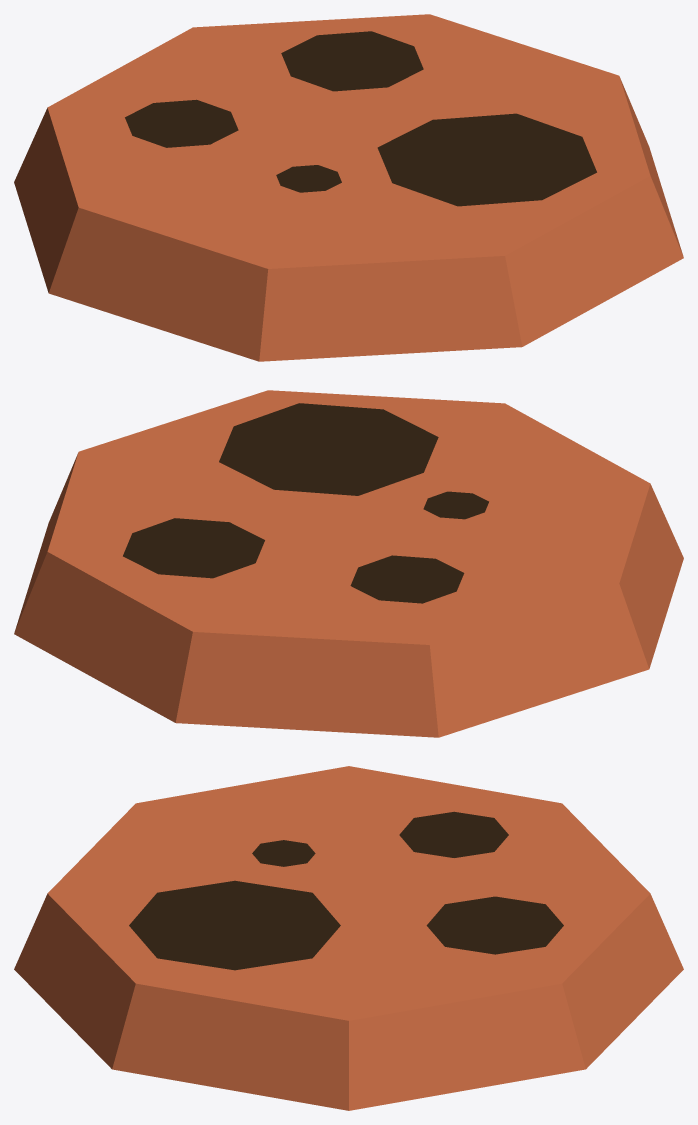
File: ed biscuit.fbx
3 views of the same model, one above another, from view 1: azimuth 30°, elevation 25°; view 2: azimuth 150°, elevation 25°; view 3: azimuth 270°, elevation 25° (orthographic). The views are drawn at different scales.
Visible parts, largest first — view 1: Plane.003; view 2: Plane.003; view 3: Plane.003.
Boxes of the visible parts, x1=… form: Plane.003: x1=14, y1=14, x2=683, y2=361; Plane.003: x1=14, y1=390, x2=683, y2=737; Plane.003: x1=14, y1=766, x2=683, y2=1110.
Size of the model in its own units: 40 by 5.35 by 40.
